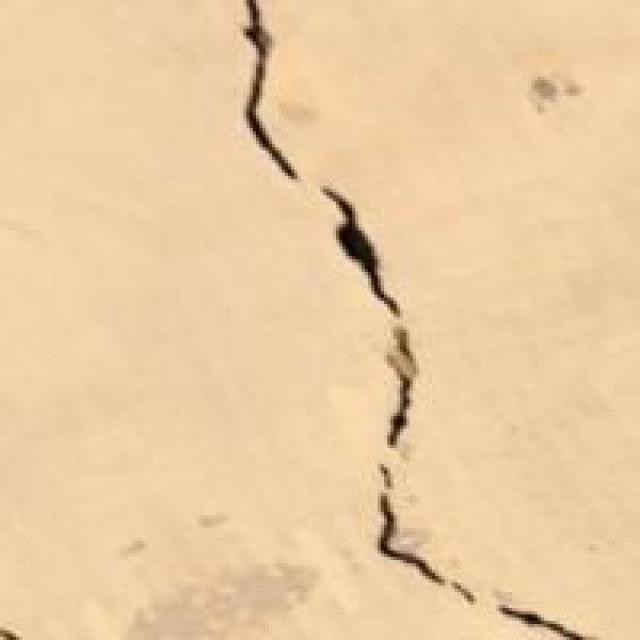crack: (205, 0, 618, 637)
